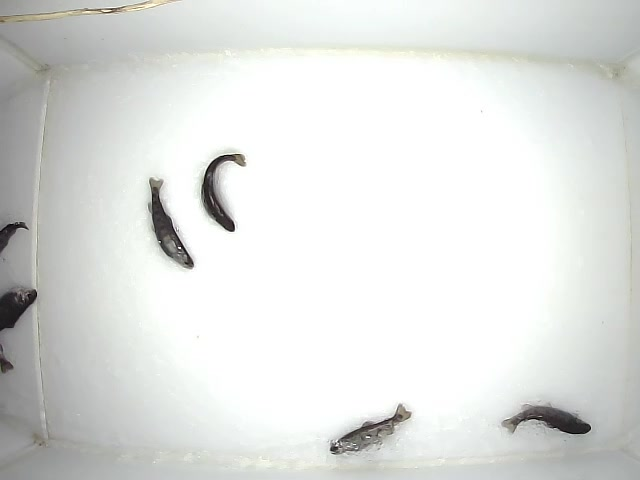fish: (142, 173, 195, 270), (327, 401, 412, 455), (198, 152, 248, 233), (499, 401, 591, 436)
